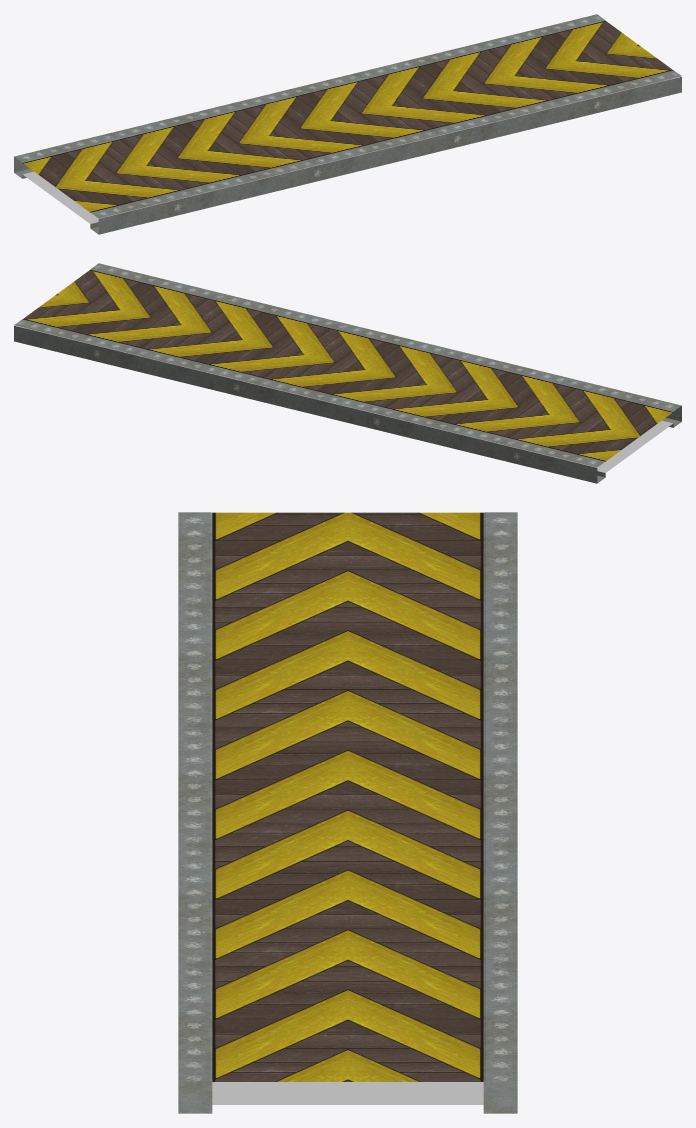
The model's file is Ob_ArrowRoadAlone_RC.fbx.
3 renders of one model, top to bottom at view 1: azimuth 30°, elevation 25°; view 2: azimuth 150°, elevation 25°; view 3: azimuth 270°, elevation 25°, orthographic. The views are drawn at different scales.
Visible parts, largest first — view 1: Ob_ArrowRoadAlone_RC; view 2: Ob_ArrowRoadAlone_RC; view 3: Ob_ArrowRoadAlone_RC.
Part boxes in pixels (x1,y1,x2,y2): Ob_ArrowRoadAlone_RC: (14, 14, 681, 234); Ob_ArrowRoadAlone_RC: (14, 263, 681, 483); Ob_ArrowRoadAlone_RC: (178, 512, 517, 1113).
Bounding box in the file's own units: 3972 × 105 × 1000.
